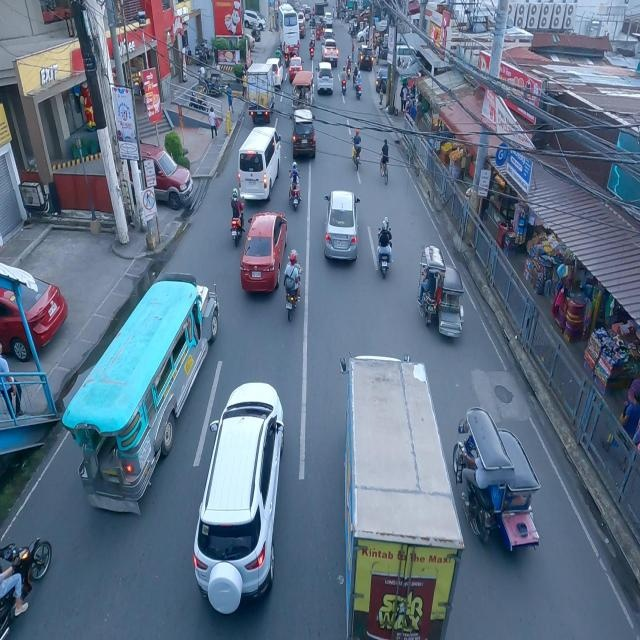Truck: (337, 340, 468, 640)
